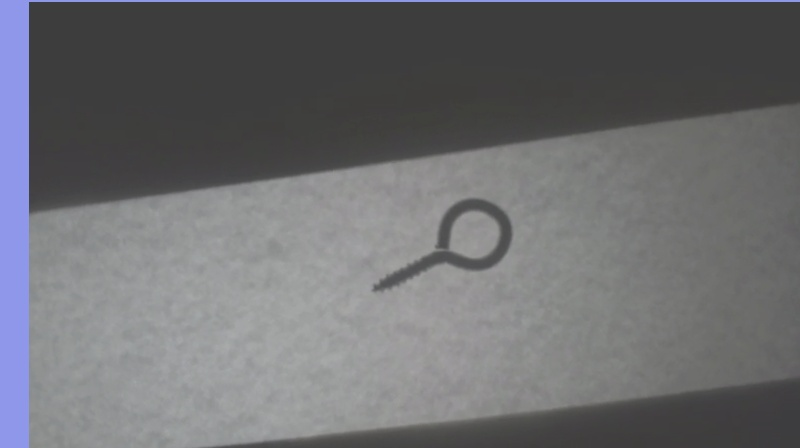O001: (367, 190, 517, 294)
